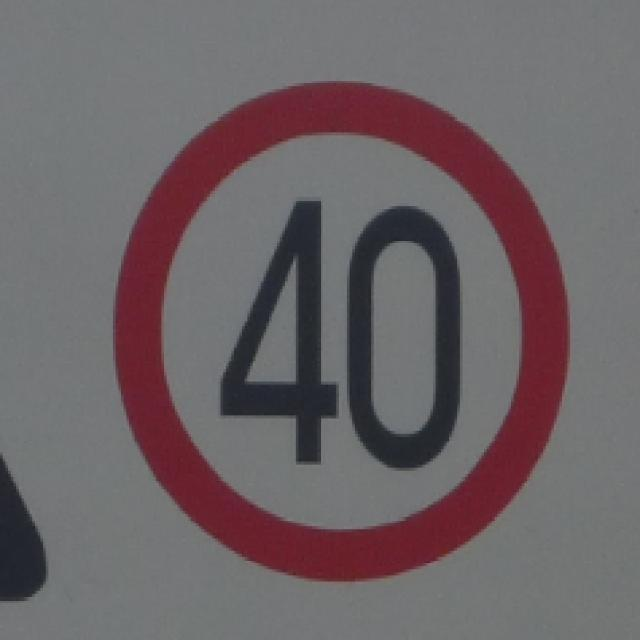speed limit 40: (113, 82, 572, 581)
